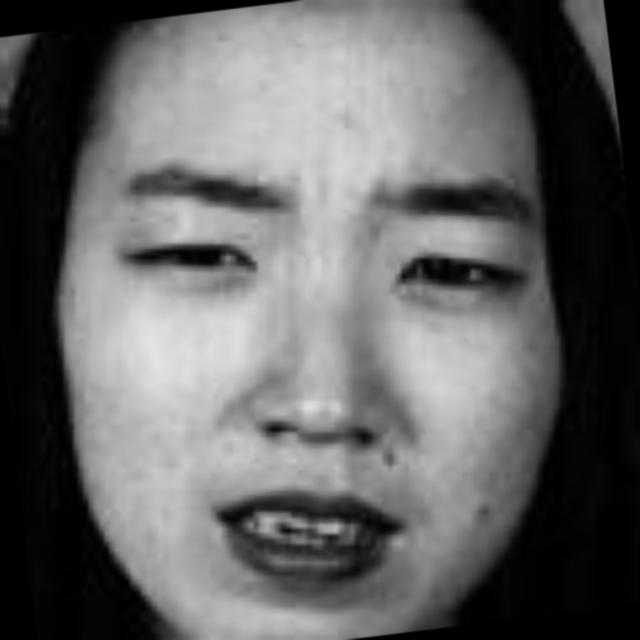disgust: (72, 33, 586, 640)
